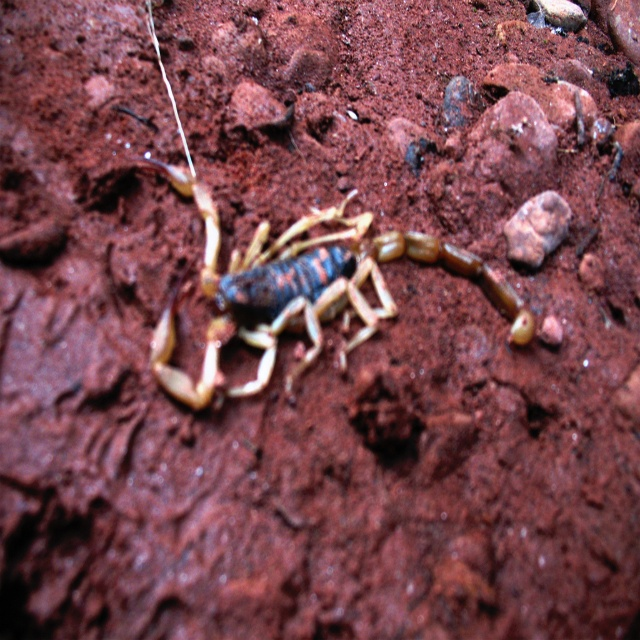Scorpion: (128, 150, 540, 415)
